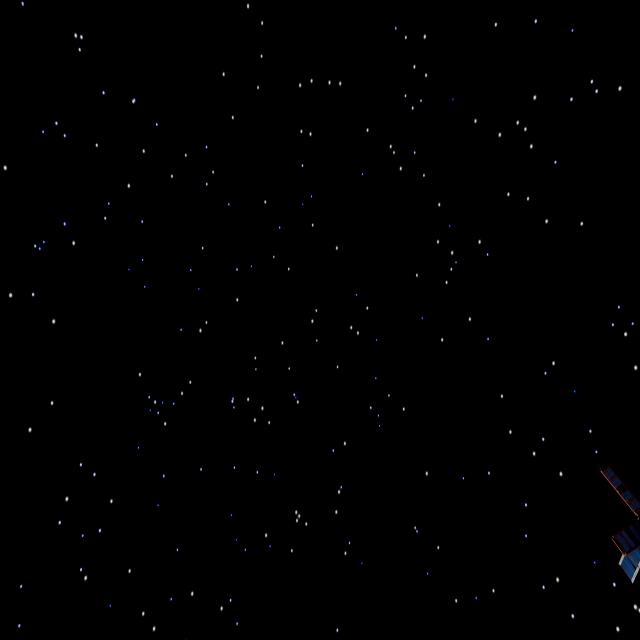satellite: (596, 454, 640, 582)
